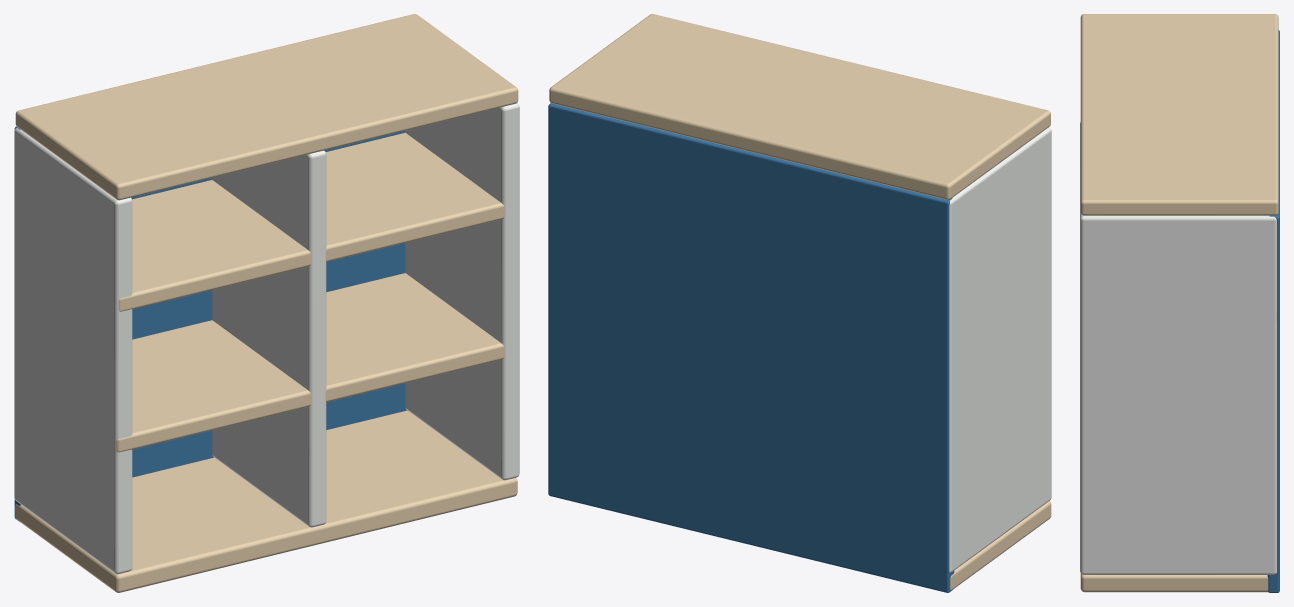
File: squash-club-and-racket-workshop-shoe-locker-a4476497__29764.glb
3 views of the same model, side by side, from view 1: azimuth 30°, elevation 25°; view 2: azimuth 150°, elevation 25°; view 3: azimuth 270°, elevation 25° (orthographic). The views are drawn at different scales.
Parts seen in each view (by area): view 1: shoe-locker; view 2: shoe-locker; view 3: shoe-locker.
Boxes of the visible parts, box(x1,y1,x2,y2) form: shoe-locker: box(14, 14, 519, 592); shoe-locker: box(548, 14, 1051, 592); shoe-locker: box(1080, 14, 1279, 592).
Size of the model in its own units: 0.9048 by 0.875 by 0.4037.
